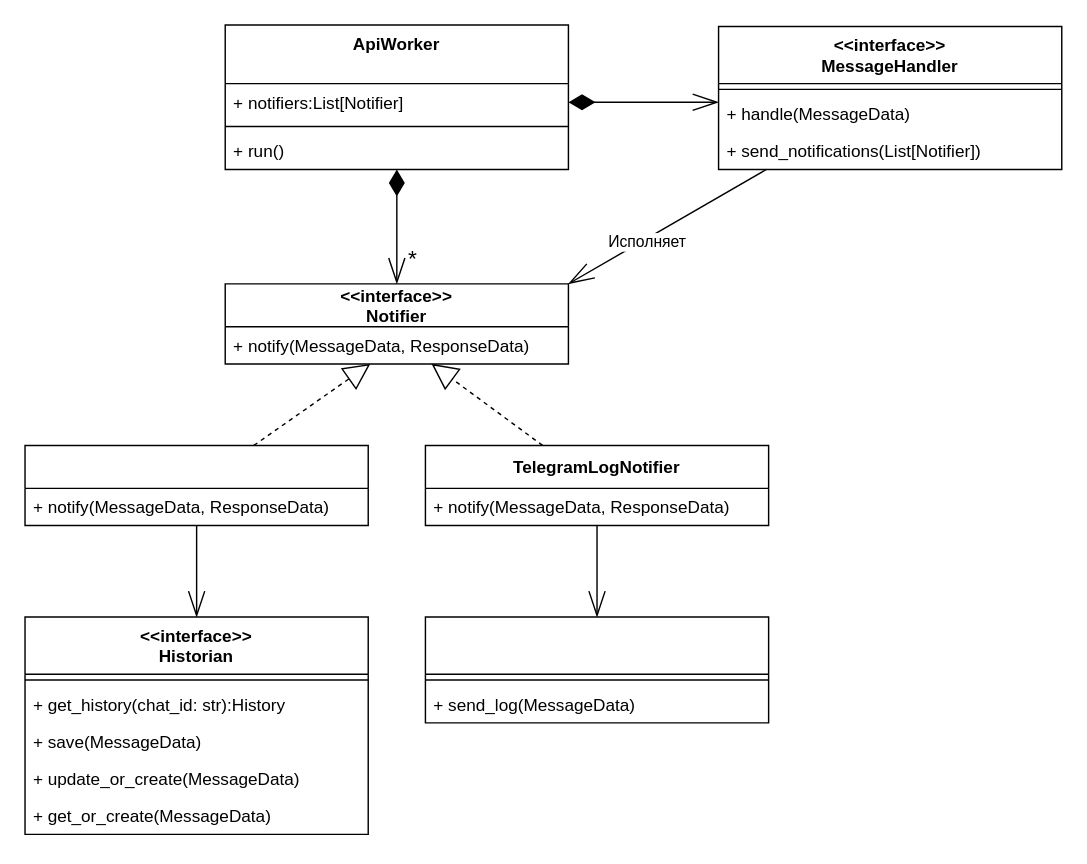
Some shapes in this 1087 by 864 pixel diagram are drawn without their labels. Each missing label, with the box of its shape:
DataBaseNotifier: (24, 444, 368, 526)
TelegramLogger: (424, 616, 769, 723)
